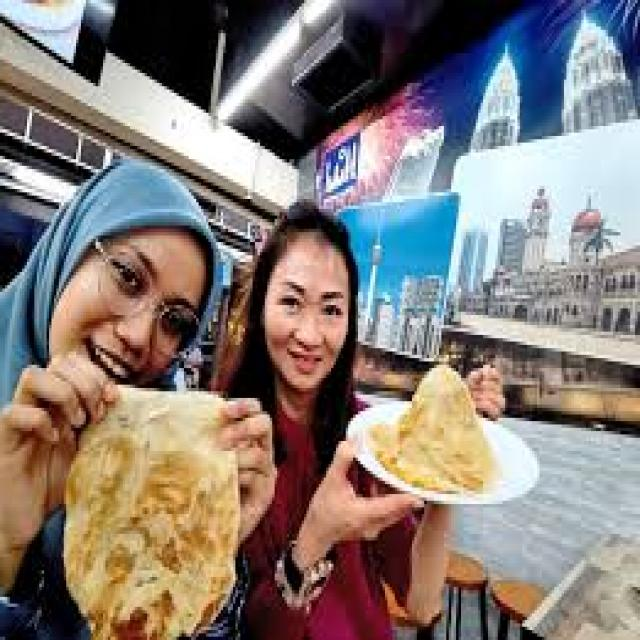Paratha: (74, 388, 228, 640), (382, 377, 471, 485)
